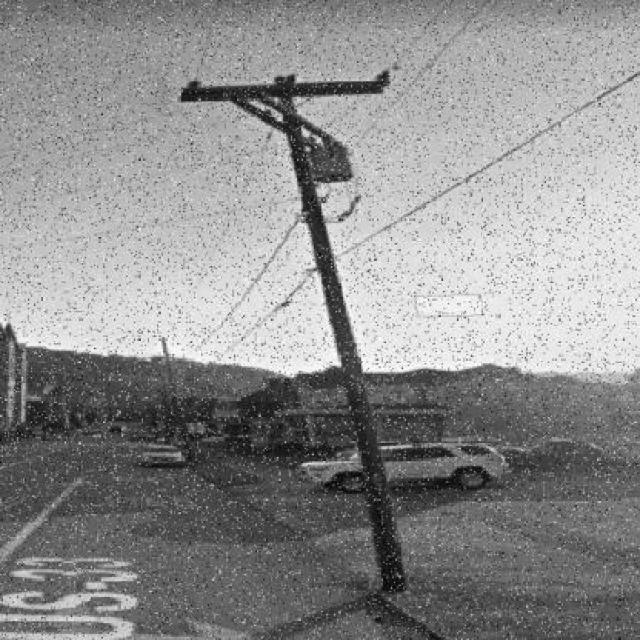pole: (153, 56, 490, 602)
